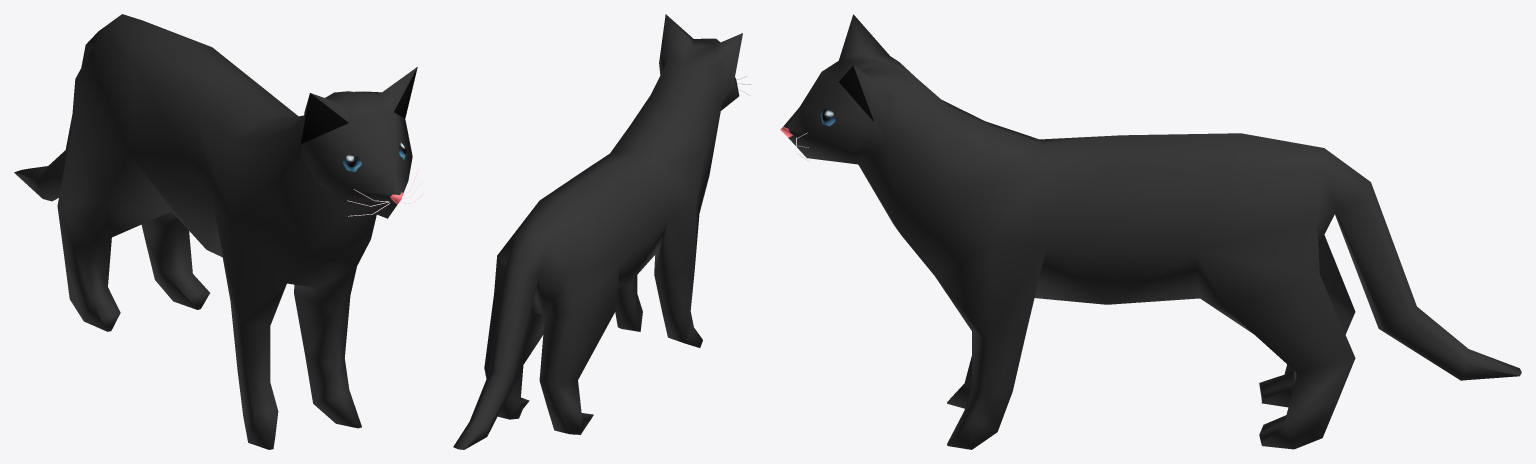
The picture shows the model from 3 angles, left to right: view 1: azimuth 30°, elevation 25°; view 2: azimuth 150°, elevation 25°; view 3: azimuth 270°, elevation 25°; orthographic projection. The views are drawn at different scales.
Visible parts, largest first — view 1: Cat01; view 2: Cat01; view 3: Cat01.
Part boxes in pixels (bbox=[...]): Cat01: bbox=[14, 14, 424, 449]; Cat01: bbox=[453, 14, 751, 449]; Cat01: bbox=[780, 14, 1521, 449].
Size of what is drawn, in the model's own units: 0.2013 by 0.5596 by 0.9788.
1 material, 1 textured.
